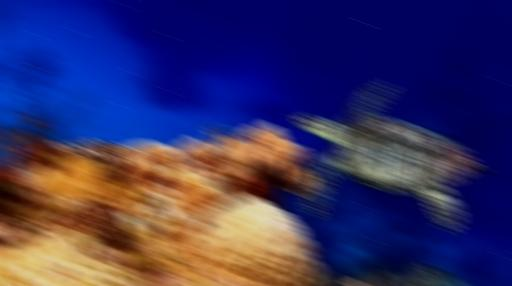Fish: (295, 82, 490, 231)
